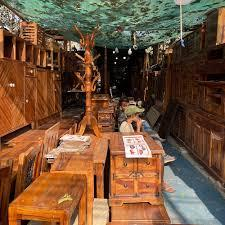chair: (12, 143, 44, 210), (0, 158, 18, 219), (42, 121, 64, 167)
light: (126, 24, 136, 60), (142, 42, 156, 55), (108, 60, 121, 67), (114, 38, 119, 56), (112, 44, 115, 56), (123, 53, 128, 60), (114, 54, 120, 59)
table: (6, 170, 88, 225), (110, 130, 168, 206), (48, 130, 110, 201), (0, 124, 56, 169), (49, 150, 96, 202), (49, 112, 79, 144), (90, 92, 113, 119), (68, 88, 90, 108), (98, 109, 115, 131)
